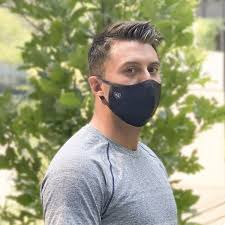with-mask: (80, 19, 167, 132)
